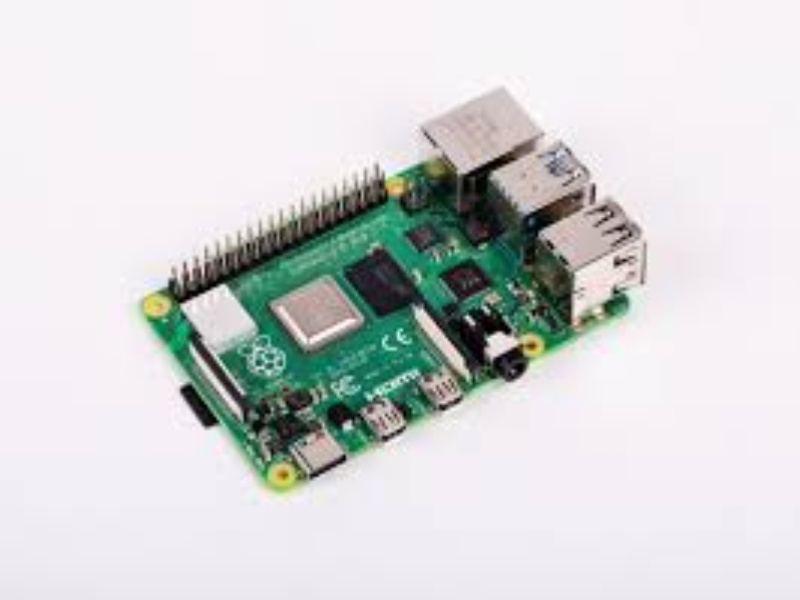raspberrypi: (143, 77, 653, 483)
